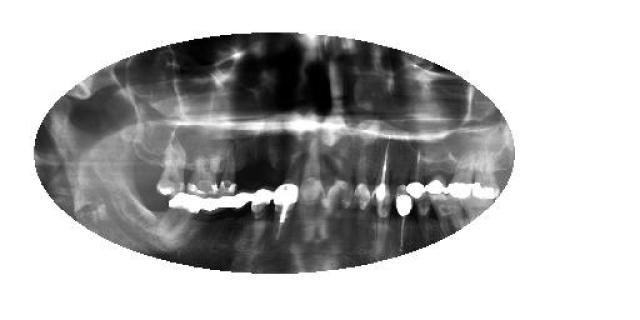Fillings: (158, 192, 202, 242), (275, 152, 304, 196), (474, 151, 500, 200), (448, 148, 473, 198), (250, 189, 274, 235), (424, 150, 446, 195), (407, 145, 425, 197), (218, 194, 234, 238), (234, 194, 250, 228), (204, 195, 218, 233)
Implant: (373, 139, 392, 205), (272, 195, 298, 241), (393, 192, 412, 252)
